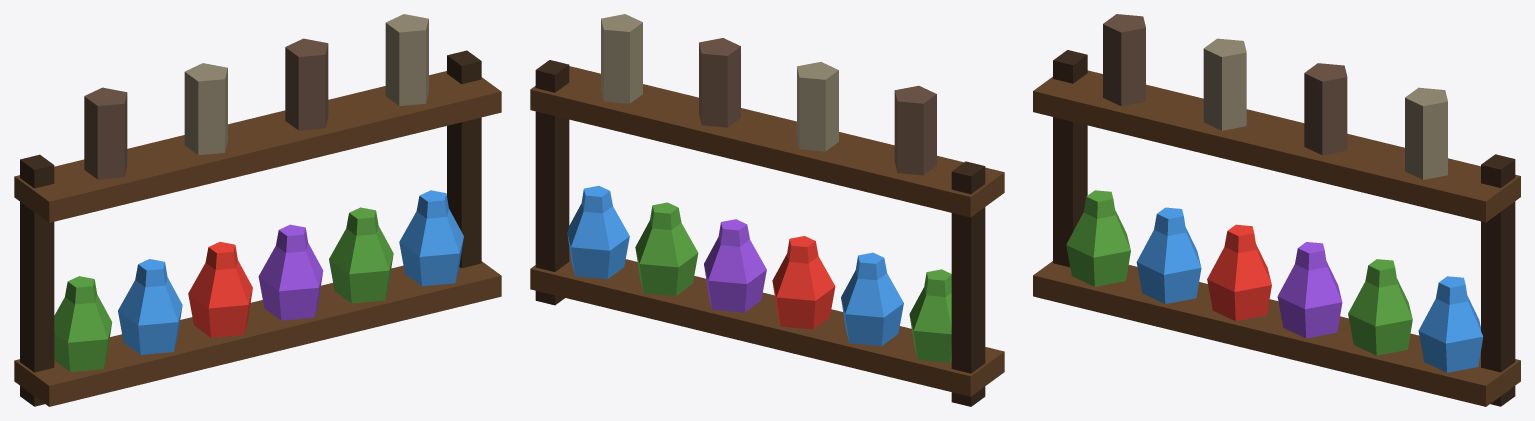
Rendered from shelf_potions.fbx.
3 renders of one model, left to right at view 1: azimuth 30°, elevation 25°; view 2: azimuth 150°, elevation 25°; view 3: azimuth 330°, elevation 25°, orthographic. The views are drawn at different scales.
Visible parts, largest first — view 1: shelf_potions; view 2: shelf_potions; view 3: shelf_potions.
Boxes of the visible parts, x1,y1,x2,y2 form: shelf_potions: [14, 14, 501, 406]; shelf_potions: [530, 14, 1004, 406]; shelf_potions: [1033, 14, 1520, 406].
Size of the model in its own units: 1.8 by 1.11 by 0.24.
